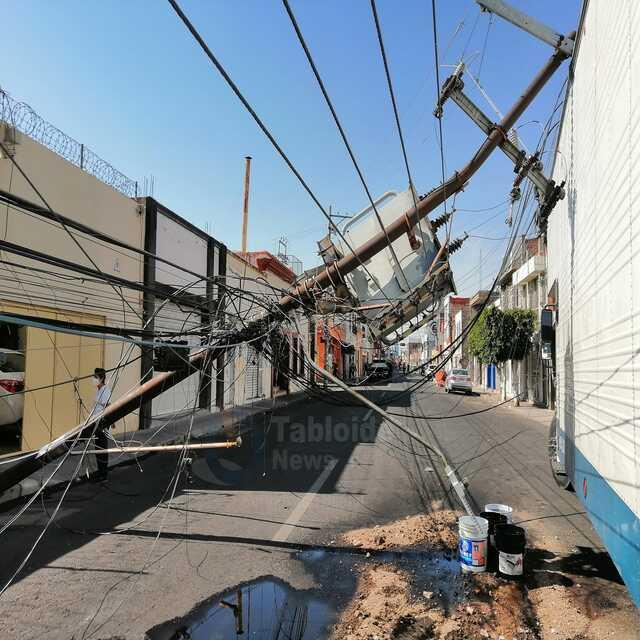Inclined Pole: (0, 0, 578, 529)
